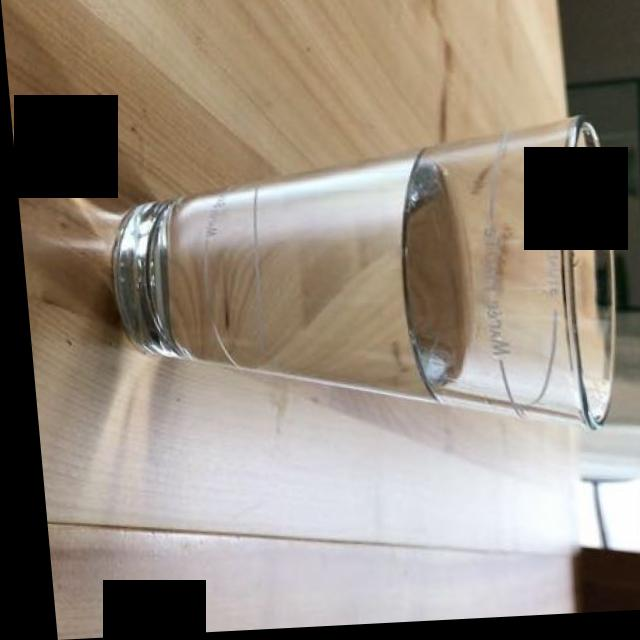water: (146, 159, 472, 396)
